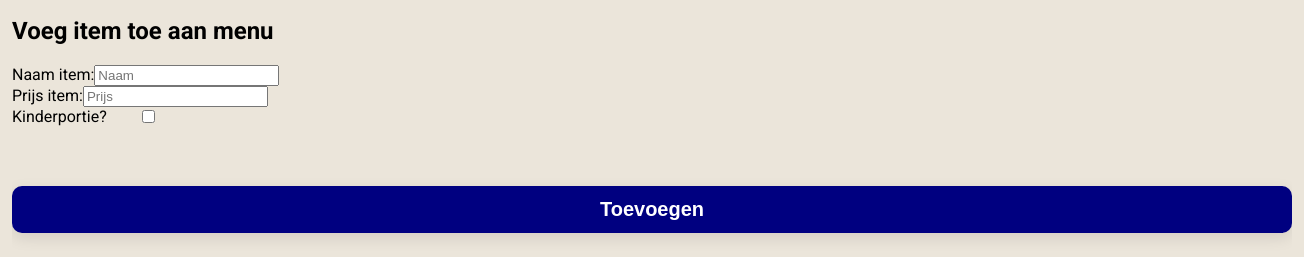
Test: AddItemOnMenu.vue › Form submission › shows error message when submission fails
The width and height of the screenshot is (1304, 257).
Type "Pizza" into the field labelled "Naam item:".
click(187, 75); type("Pizza")  # box [94,65,279,86]
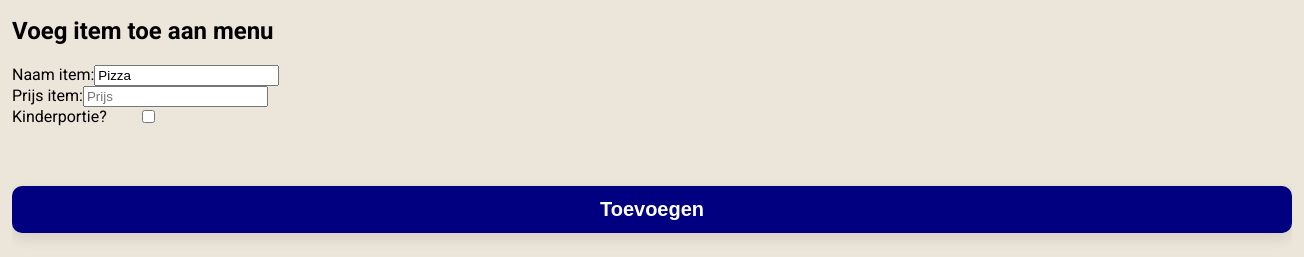
Type "15.35" into the number field labelled "Prijs item:".
click(176, 96); type("15.35")  # box [83,86,268,107]
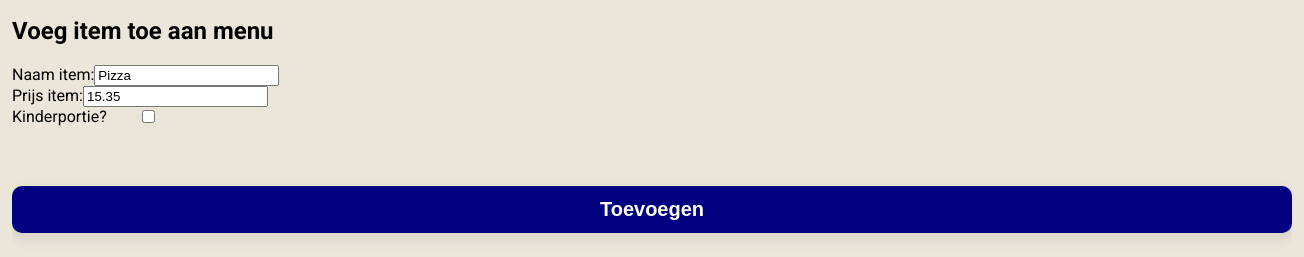
Submit the form
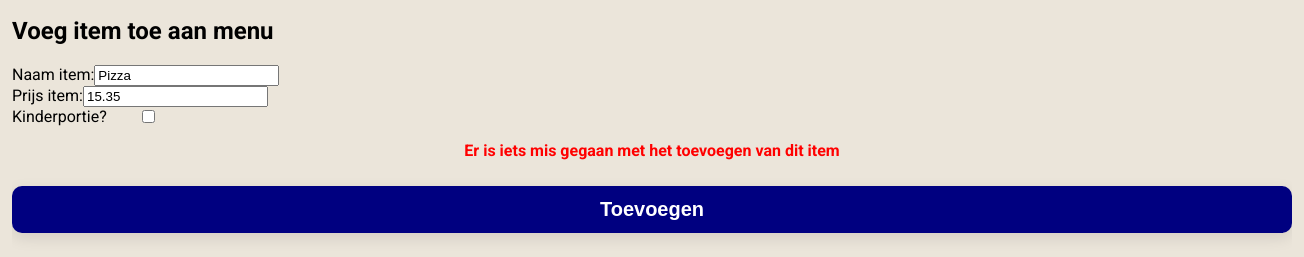
Result: the text with class "status-message" reads "Er is iets mis gegaan met het toevoegen van dit item" at [464,141,840,160]
